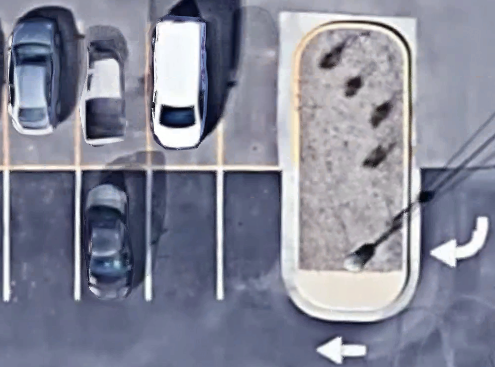Occupied: (148, 17, 221, 168), (5, 17, 78, 167), (79, 17, 150, 167), (78, 166, 148, 300)
Vacant: (221, 17, 288, 168), (6, 167, 78, 300), (148, 167, 220, 300), (221, 169, 289, 299)
